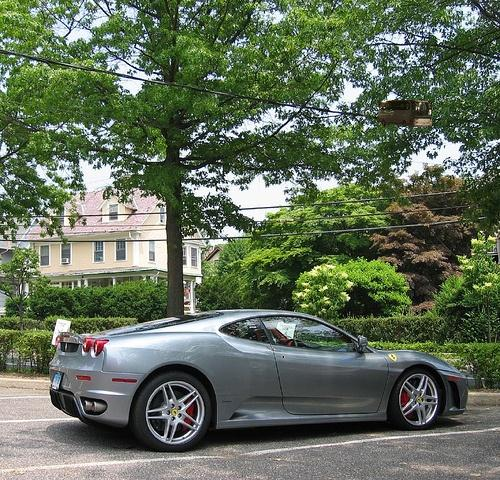tampered: (378, 100, 432, 127)
